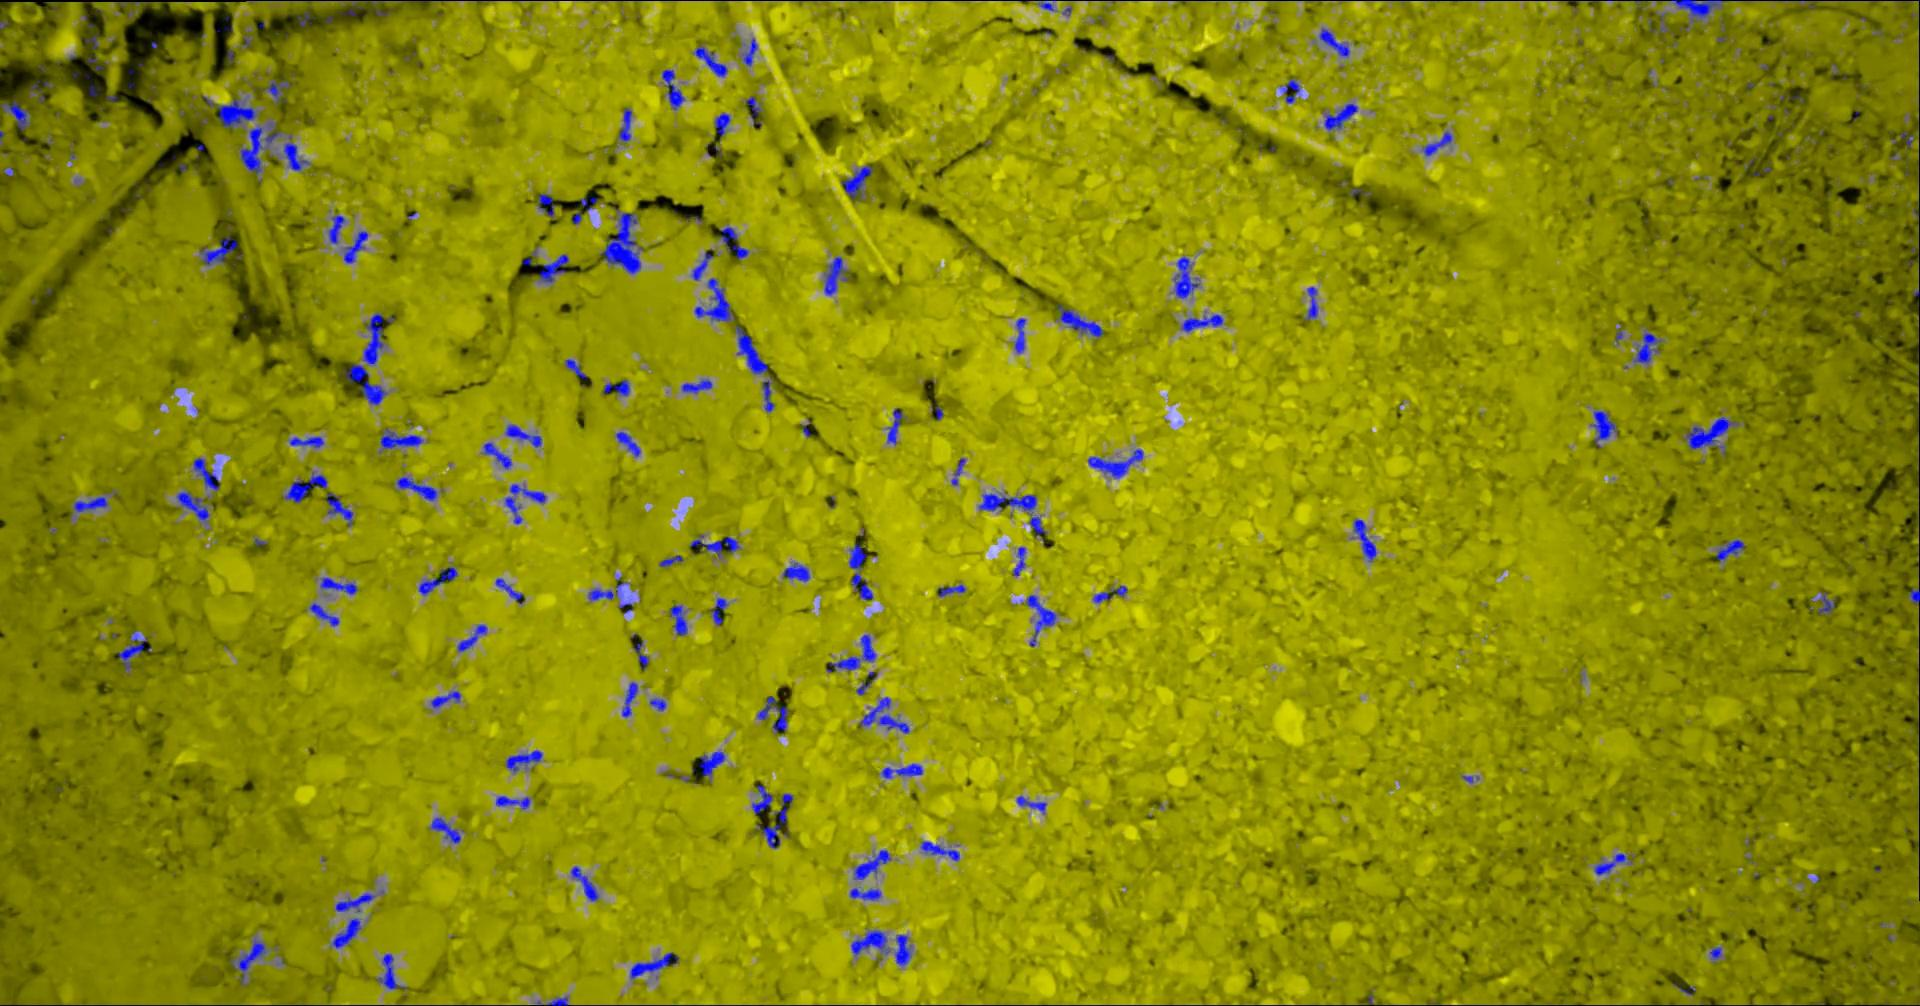ant: (978, 493, 1046, 539), (240, 121, 282, 174), (756, 793, 792, 848), (201, 95, 257, 130), (825, 634, 875, 672), (858, 696, 909, 733), (1686, 417, 1735, 455), (343, 363, 386, 405), (695, 277, 734, 321), (229, 937, 265, 984), (734, 325, 768, 373), (504, 483, 545, 523), (1087, 448, 1143, 478), (363, 312, 394, 365), (1025, 594, 1055, 647), (1057, 304, 1103, 337), (848, 542, 872, 600), (117, 630, 151, 669), (629, 951, 678, 978), (522, 254, 568, 282), (284, 471, 326, 502), (756, 695, 789, 732), (375, 953, 408, 989), (690, 533, 739, 558), (1671, 0, 1726, 22), (199, 235, 237, 265), (841, 164, 872, 199), (853, 848, 890, 879), (418, 567, 457, 594), (1173, 257, 1199, 298), (695, 44, 728, 76), (717, 226, 748, 259), (1352, 518, 1375, 561), (1590, 410, 1617, 447), (587, 575, 627, 600), (824, 257, 850, 295), (175, 492, 210, 520), (570, 866, 598, 901), (396, 476, 436, 500), (850, 930, 889, 954), (662, 69, 684, 109), (0, 99, 30, 130), (1323, 103, 1357, 130), (325, 492, 352, 526), (378, 428, 423, 448), (1318, 27, 1349, 56), (331, 917, 361, 948), (253, 77, 290, 102), (1592, 852, 1630, 875), (457, 624, 488, 652), (1633, 332, 1660, 363), (504, 424, 541, 447), (193, 457, 218, 490), (343, 230, 367, 263), (505, 749, 542, 771), (430, 817, 460, 843), (919, 841, 959, 860), (335, 893, 375, 912), (495, 578, 524, 603), (698, 751, 724, 780), (1181, 314, 1222, 332), (1906, 210, 1919, 265), (483, 442, 510, 467), (309, 602, 339, 625), (283, 144, 309, 170), (319, 577, 357, 594), (1423, 131, 1451, 155), (1716, 539, 1745, 561), (750, 784, 772, 814), (615, 431, 640, 456), (342, 0, 383, 15), (880, 763, 922, 779), (886, 406, 903, 445), (691, 251, 712, 279), (564, 358, 585, 386), (621, 681, 637, 716), (1016, 795, 1046, 814), (1093, 586, 1128, 602), (855, 671, 877, 695), (72, 495, 108, 511), (669, 605, 687, 635), (894, 934, 910, 965), (29, 79, 52, 102), (430, 690, 460, 708), (782, 561, 809, 580), (328, 215, 345, 243), (761, 376, 775, 412), (710, 597, 728, 625), (1279, 79, 1299, 103), (1816, 591, 1836, 614), (618, 107, 631, 142), (745, 97, 761, 126), (632, 640, 648, 669), (681, 379, 712, 392), (850, 887, 881, 901), (602, 379, 629, 395), (1304, 286, 1317, 320), (495, 795, 530, 808), (714, 113, 730, 138), (742, 38, 756, 66), (951, 457, 965, 485), (537, 193, 554, 216), (290, 436, 323, 447), (1012, 546, 1025, 575), (1015, 318, 1025, 353), (937, 584, 965, 596), (536, 996, 568, 1005), (297, 9, 314, 25), (930, 401, 943, 420), (659, 555, 682, 567), (1898, 131, 1912, 147), (580, 196, 596, 210), (649, 699, 665, 710), (1037, 0, 1055, 10), (1909, 588, 1919, 605), (1709, 946, 1721, 959)
